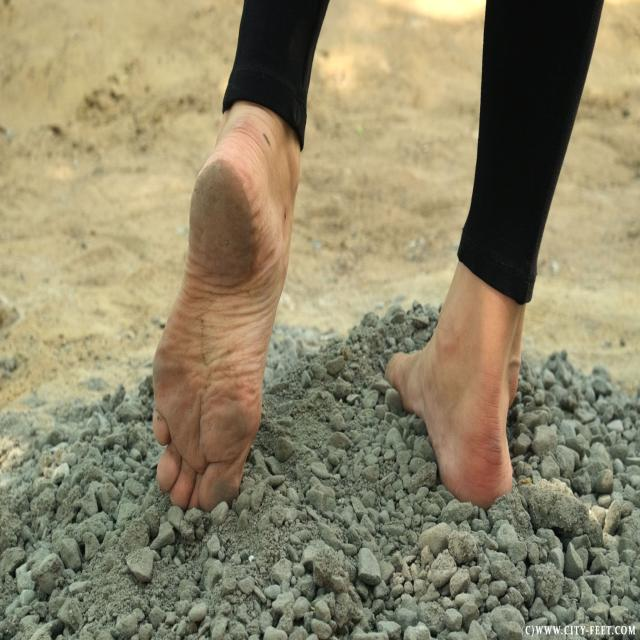Barefoots: (152, 139, 272, 513), (384, 341, 520, 509)
